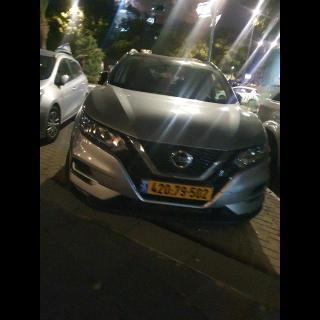LicensePlate: (148, 181, 212, 201)
